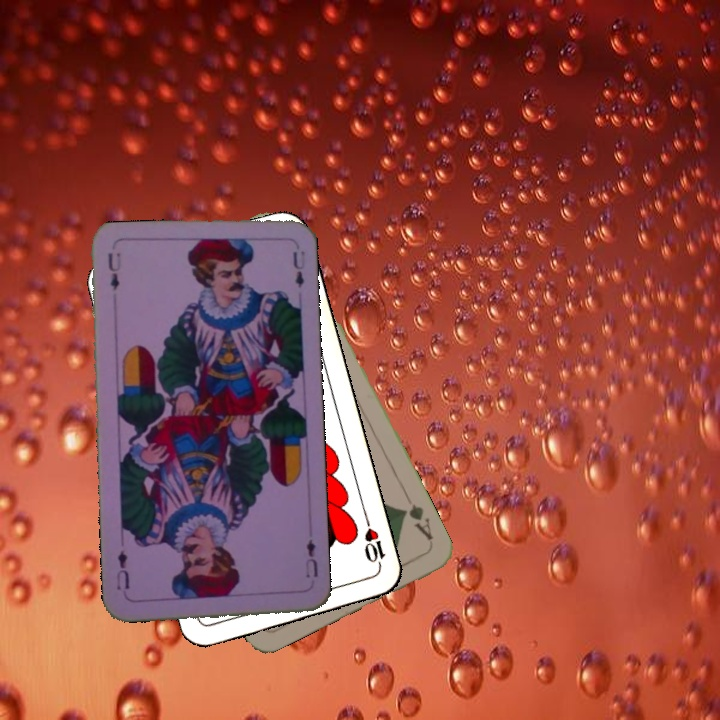EU: (301, 535, 321, 581), (104, 249, 123, 293)
GA: (397, 500, 435, 543)
H10: (360, 514, 388, 572)
